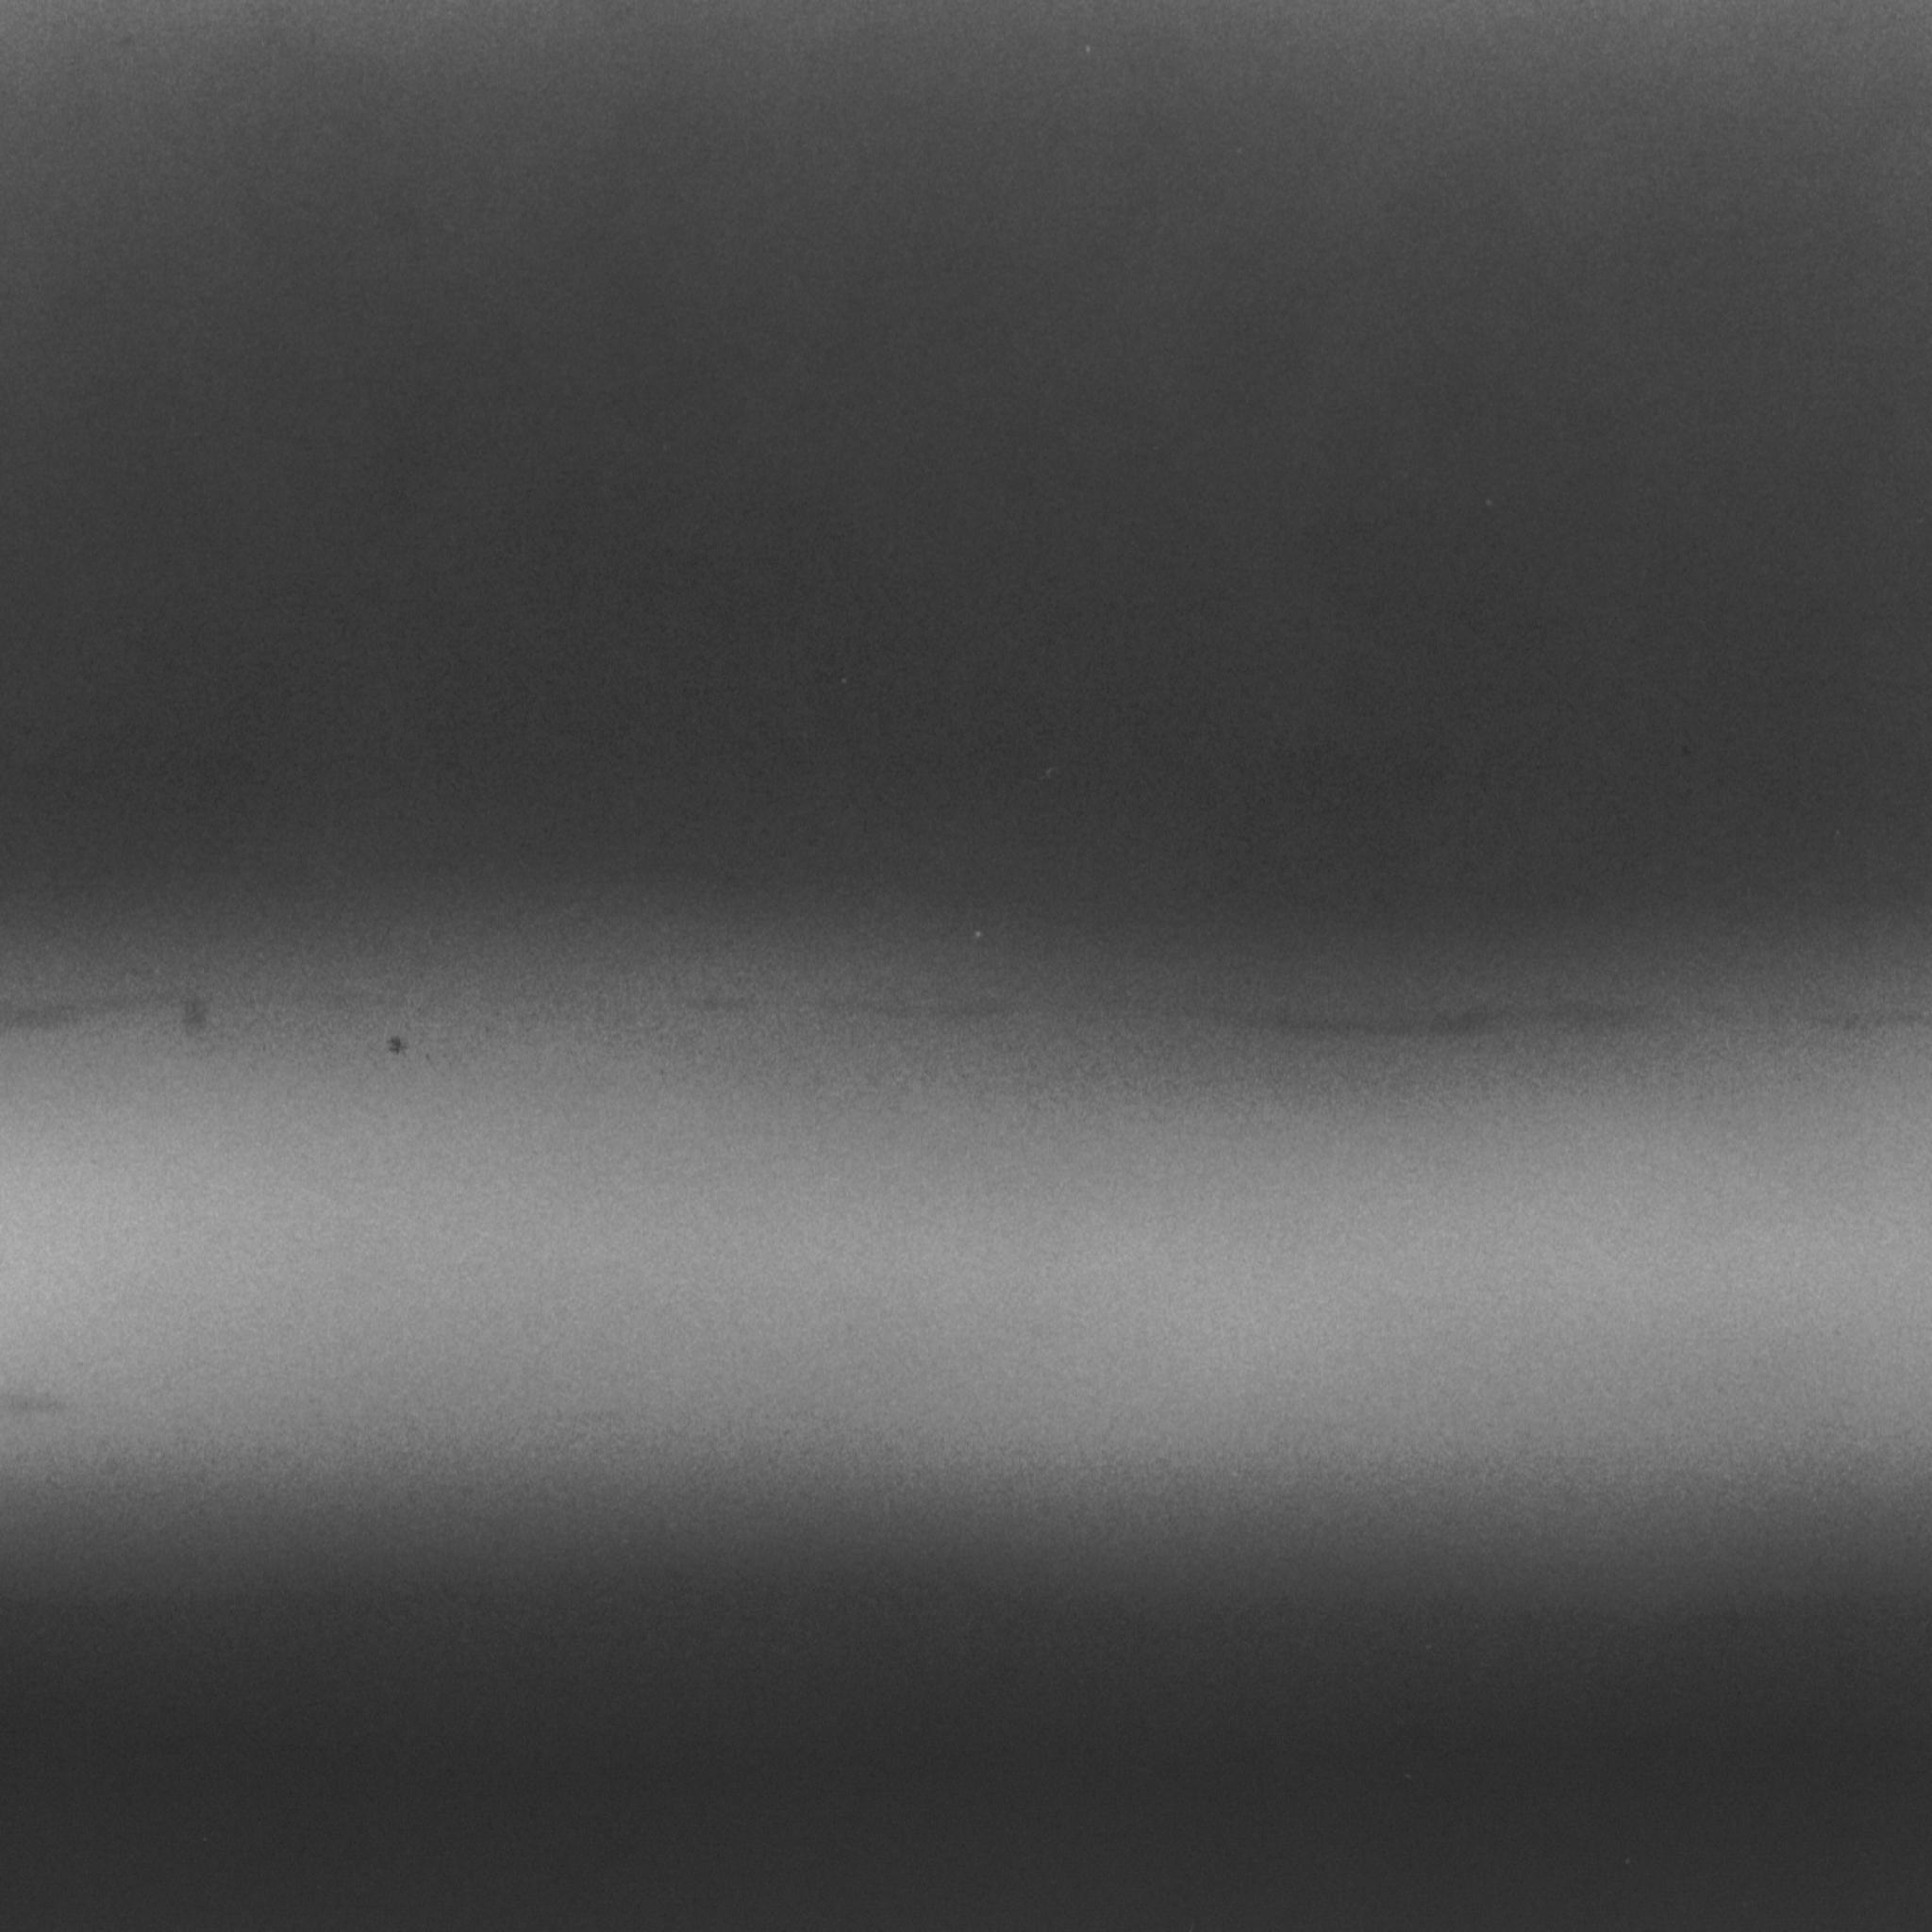MR: (0, 897, 1932, 1568)
